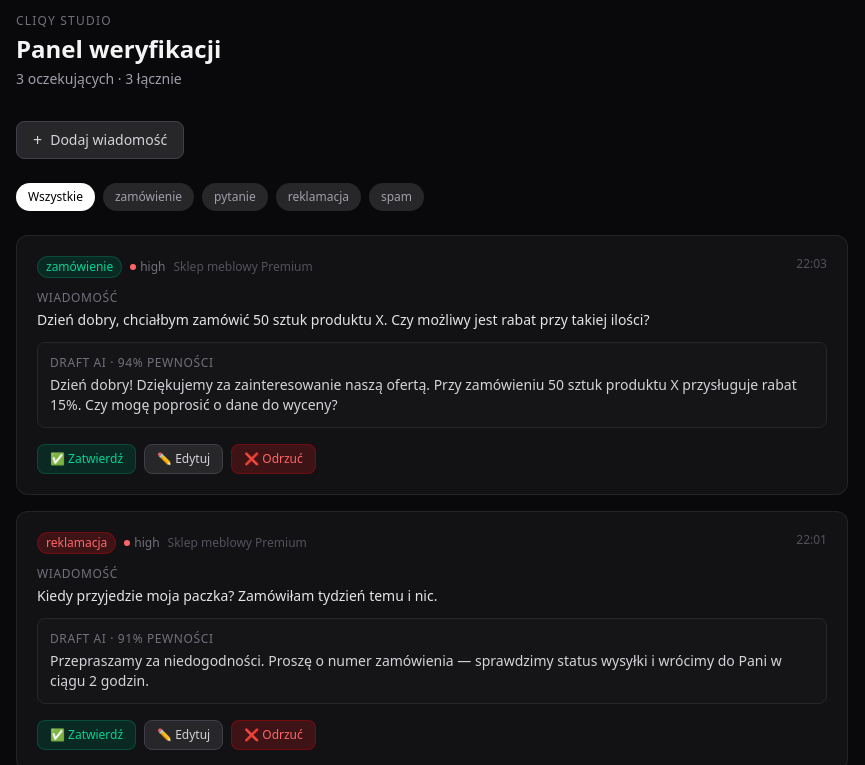
Test: QueuePage › edit mode › shows a textarea pre-filled with the current draft on Edytuj
Click the button "✏️ Edytuj" below "94" at (184, 459), box [144,444,223,474]
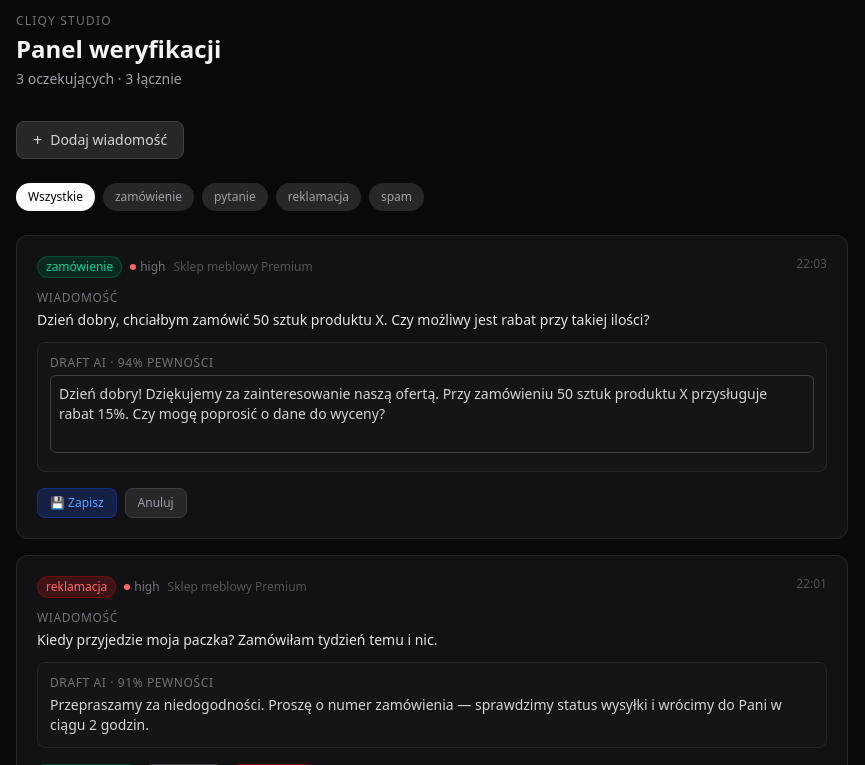
Check: the text box is shown, box [50,375,814,453]
